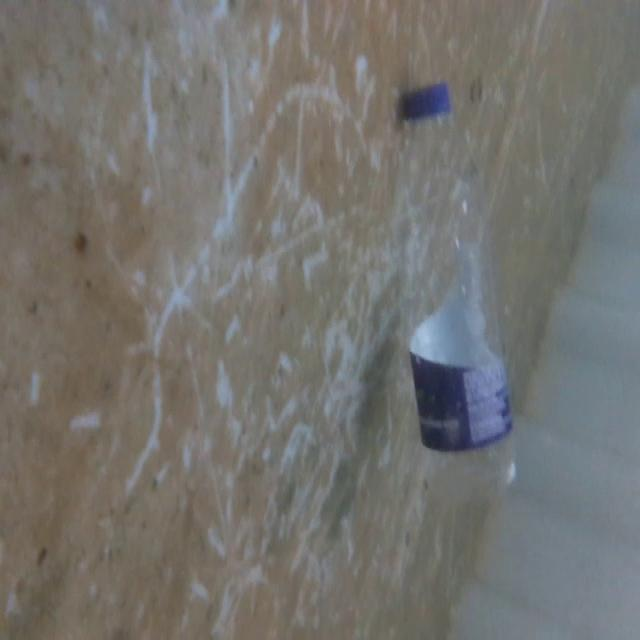plastic bottle: (374, 68, 535, 506)
